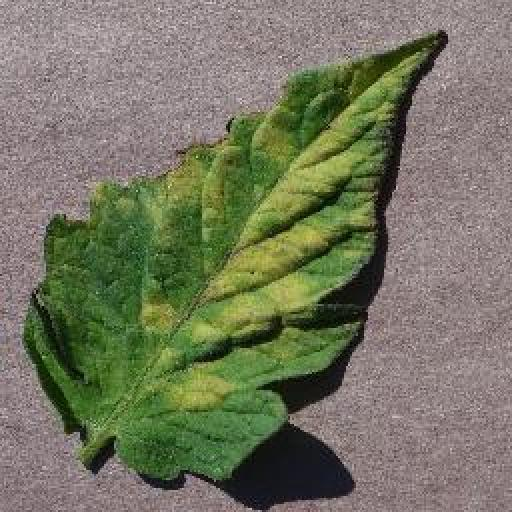Leaf Mold: (27, 30, 447, 486)
